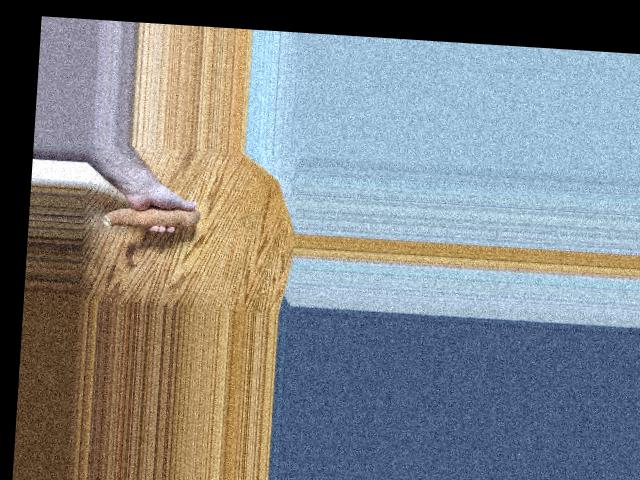sweet_potato: (100, 195, 197, 230)
